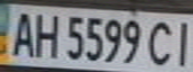5: (81, 14, 106, 63), (60, 11, 84, 61)
9: (121, 16, 148, 65), (103, 16, 124, 64)
A: (6, 8, 39, 57)
C: (145, 17, 178, 68)
H: (30, 8, 60, 60)
I: (169, 17, 193, 68)
